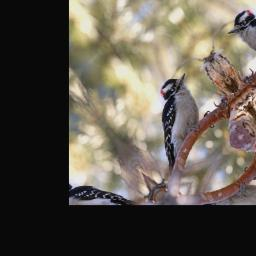Woodpecker: (127, 68, 226, 175)
